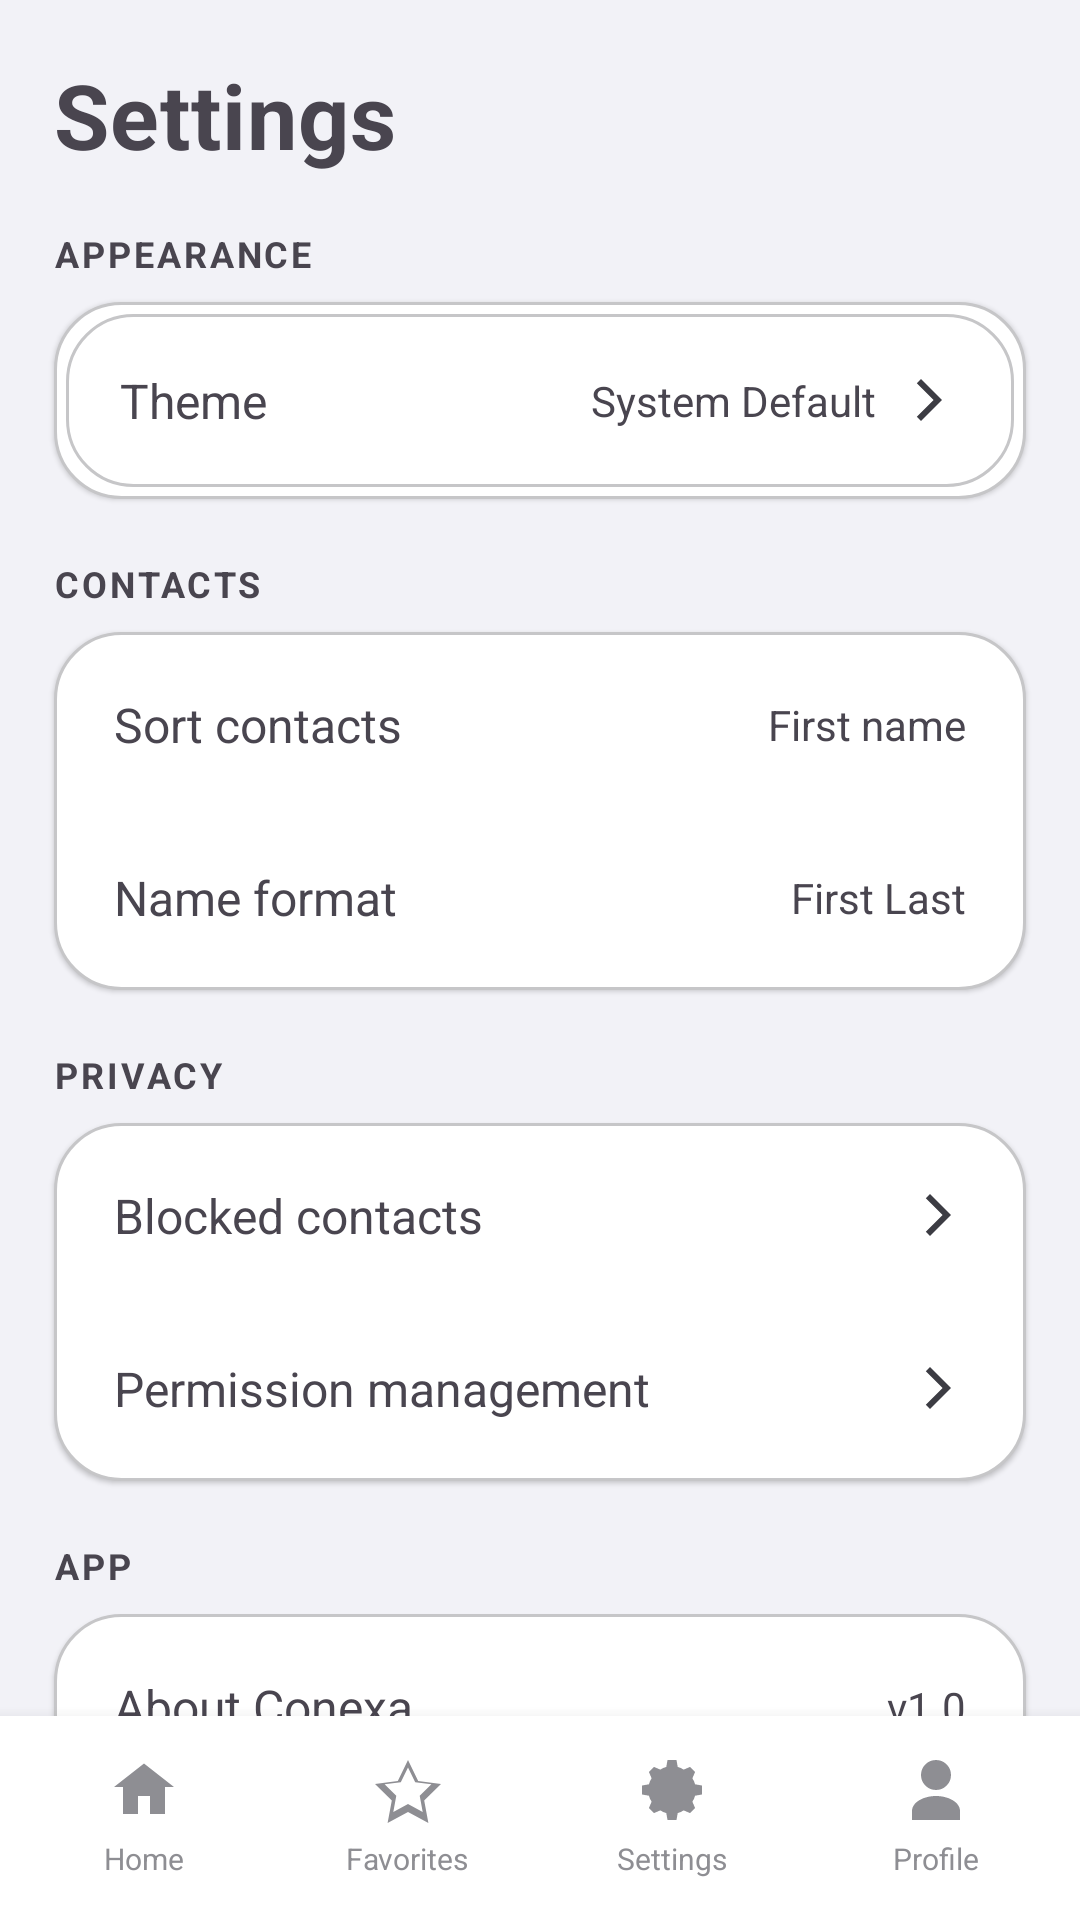

Icon click points for this 1080px x 1920px phone screenshot, format point (x, y):
chevron right: point (929, 400), point (938, 1215), point (938, 1388)
